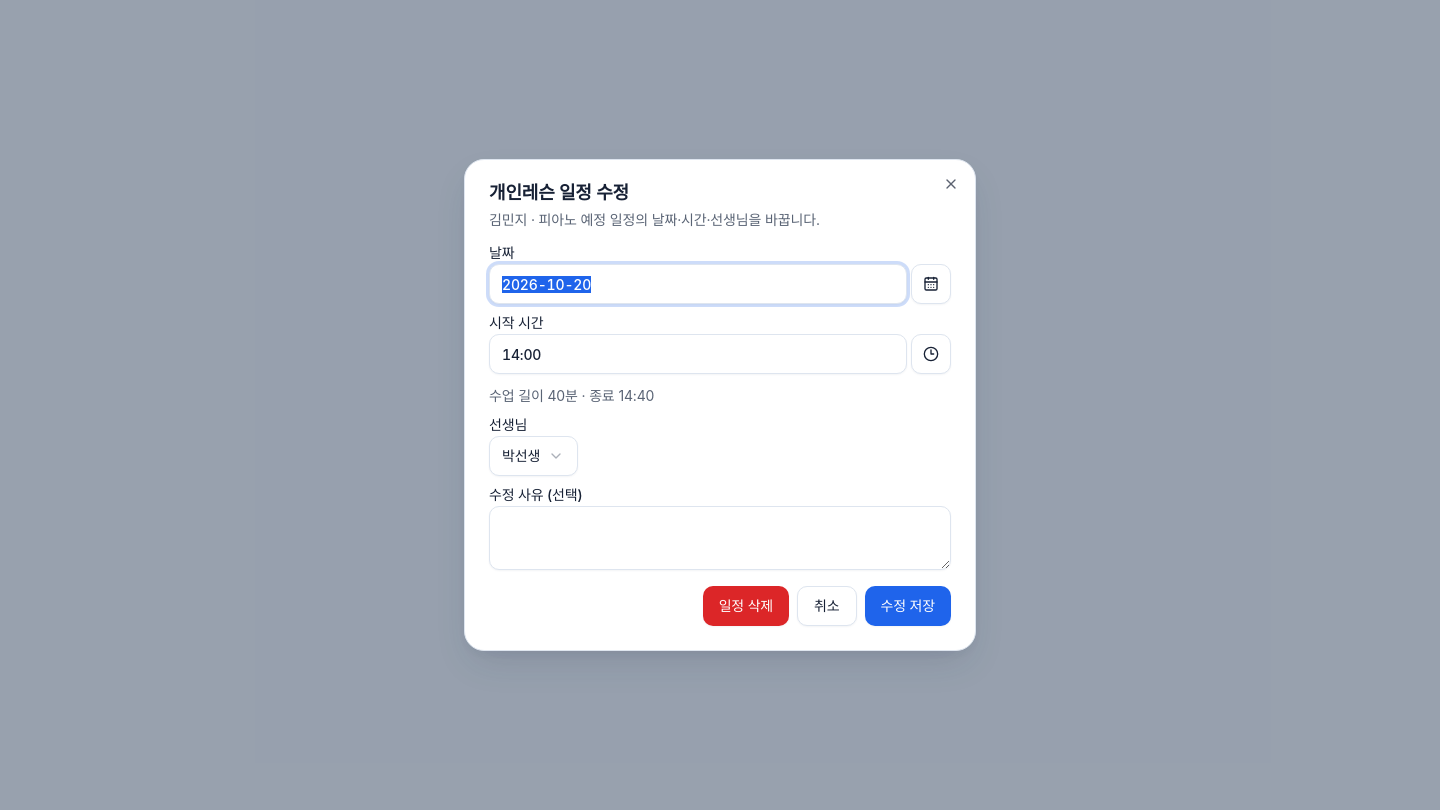
Test: 개인레슨 일정 수정 › 날짜·시간·선생님과 선택 사유를 수정하고 삭제 확인에는 사유를 묻지 않는다
This screenshot has width=1440, height=810.
Check: the dialog "개인레슨 일정 수정" is shown, box [464,159,976,651]
Click the button "수정 저장": (908, 606) [864,586,951,626]
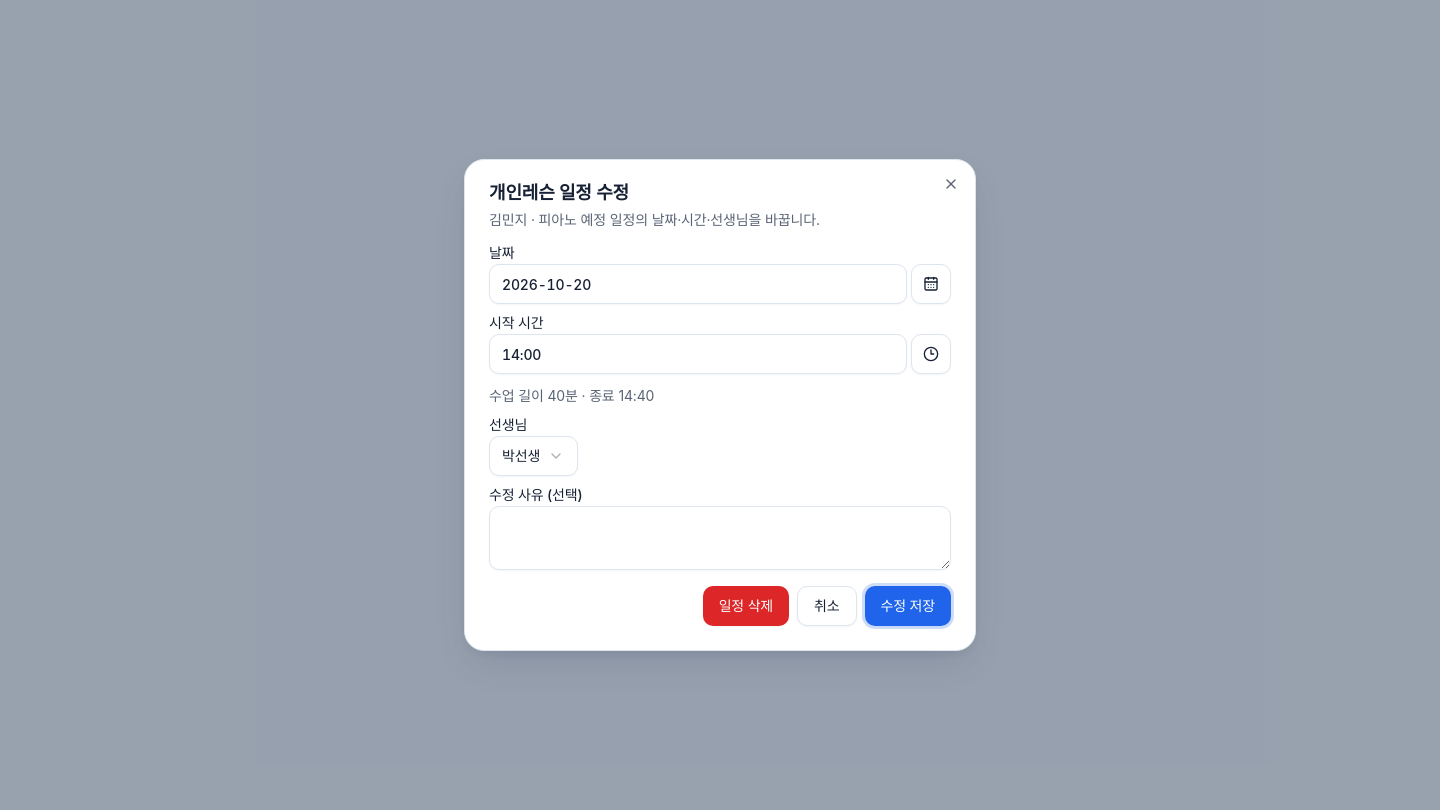
Click the button "일정 삭제": (746, 606) [703,586,789,626]
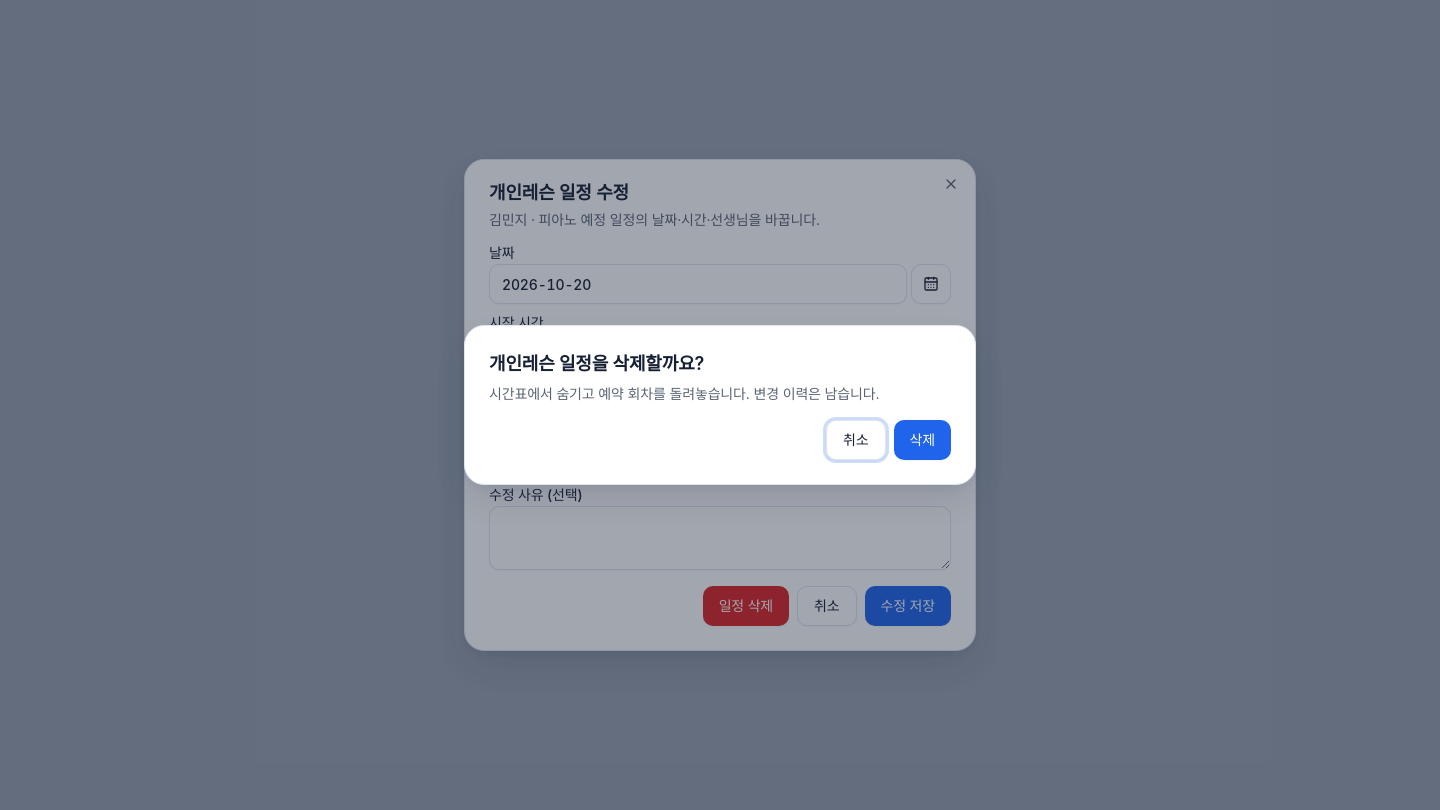
Check: the dialog "개인레슨 일정을 삭제할까요?" is shown, box [464,325,976,485]
